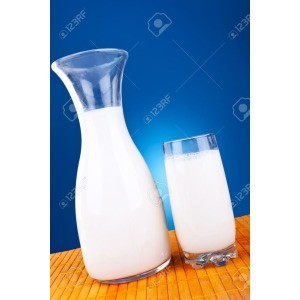milk_brain food: (69, 118, 156, 288), (165, 146, 236, 256)
